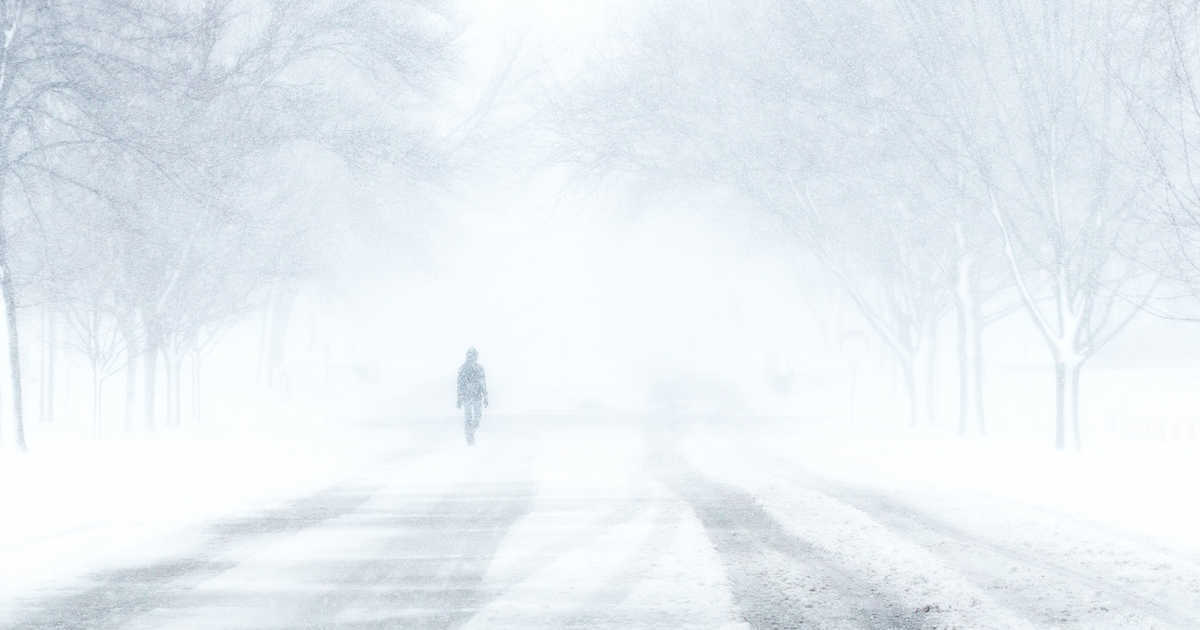person: (453, 343, 496, 451)
